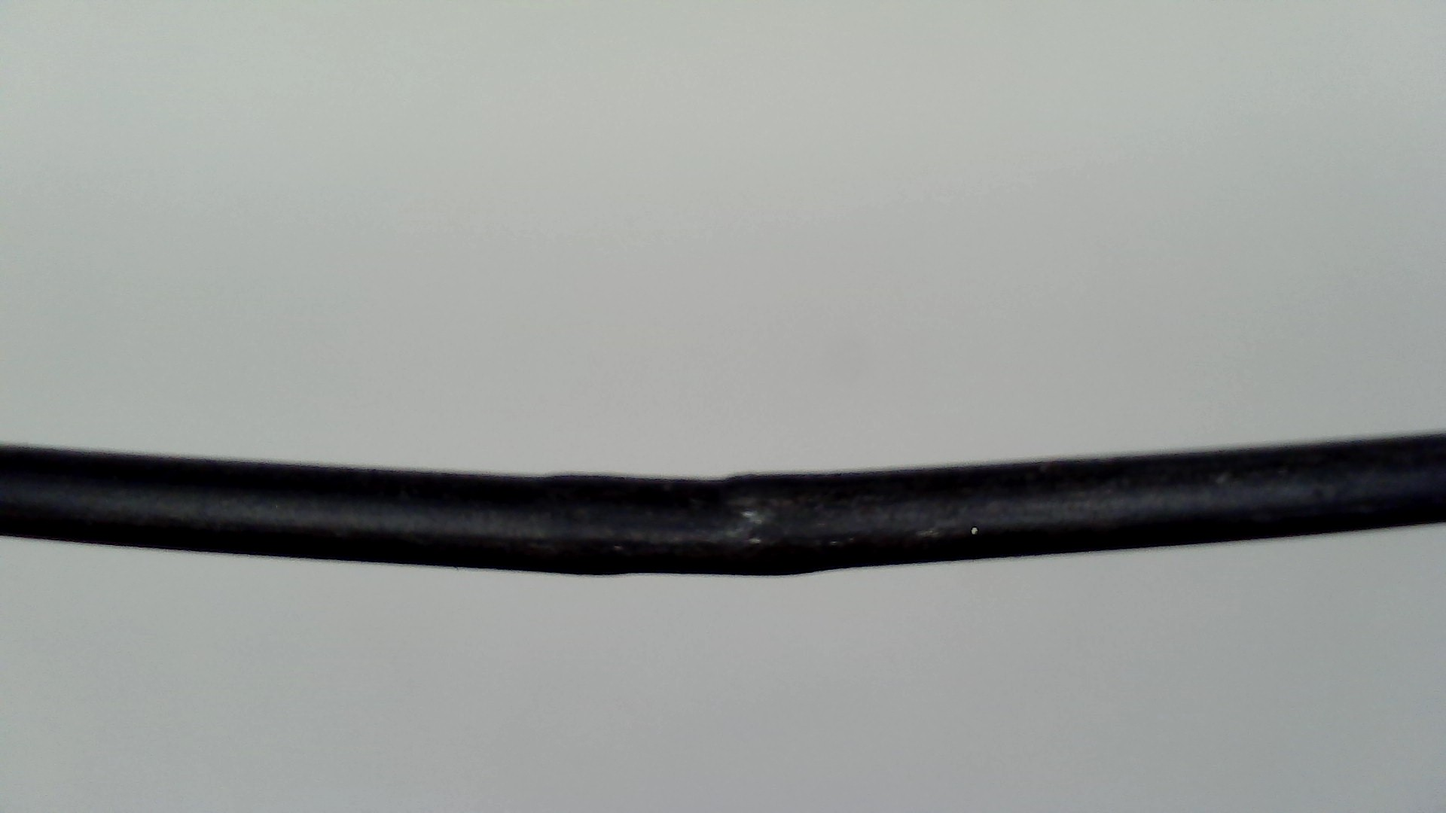defect: (591, 471, 847, 571)
